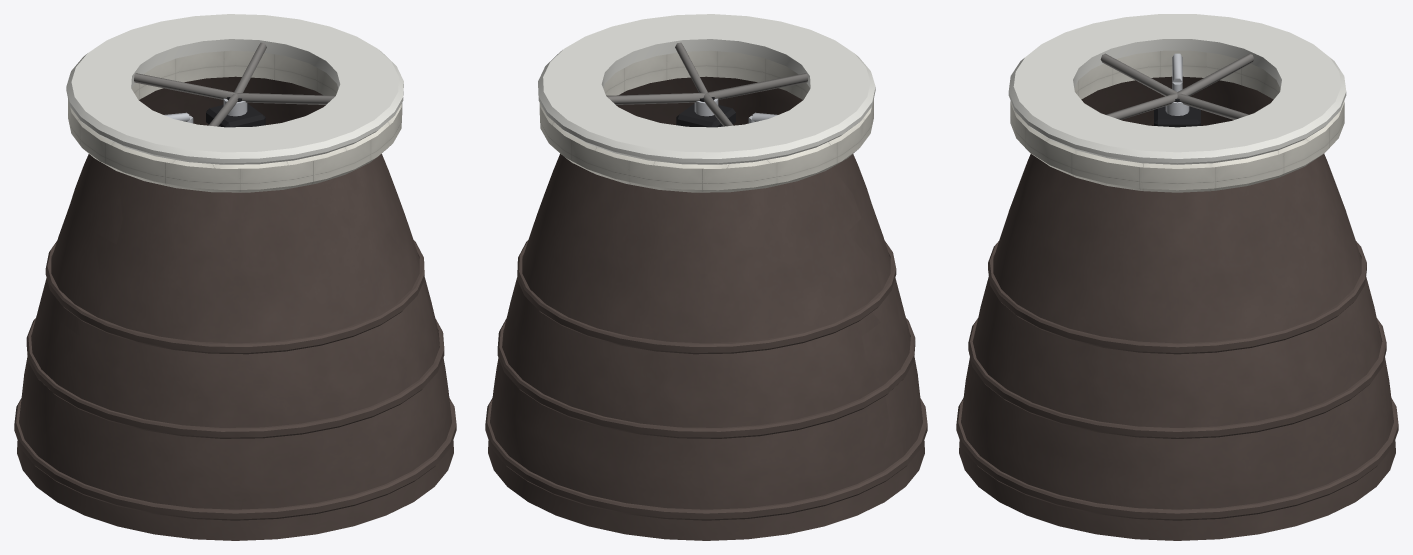
File: ax_prop_10_hydrolox_vac_s.glb
The picture shows the model from 3 angles, left to right: view 1: azimuth 30°, elevation 25°; view 2: azimuth 150°, elevation 25°; view 3: azimuth 270°, elevation 25°; orthographic projection.
Visible parts, largest first — view 1: nozzle_extension, mount_ring, extension_hoops, thermal_blanket_ring, thrust_struts, gimbal; view 2: nozzle_extension, mount_ring, extension_hoops, thermal_blanket_ring, thrust_struts, gimbal; view 3: nozzle_extension, mount_ring, extension_hoops, thermal_blanket_ring, thrust_struts, gimbal.
Part boxes in pixels (x1,y1,x2,y2): nozzle_extension: (17,76,453,540); mount_ring: (66,14,403,164); extension_hoops: (14,240,456,520); thermal_blanket_ring: (68,50,402,192); thrust_struts: (134,42,335,126); gimbal: (206,97,265,127); nozzle_extension: (488,76,924,540); mount_ring: (538,14,875,164); extension_hoops: (485,240,927,520); thermal_blanket_ring: (539,50,873,192); thrust_struts: (606,42,807,126); gimbal: (676,97,735,127); nozzle_extension: (959,76,1395,540); mount_ring: (1008,14,1346,164); extension_hoops: (956,241,1398,520); thermal_blanket_ring: (1010,50,1344,192); thrust_struts: (1100,53,1254,119); gimbal: (1154,98,1200,127).
Size of the model in its own units: 1.64 by 1.49 by 1.64.
Materials: 6 (4 with a texture image).
